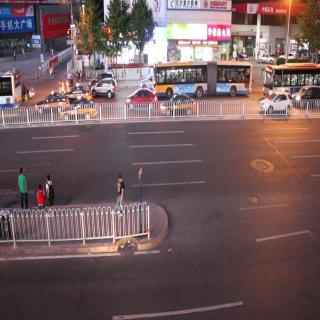BigCar: (146, 61, 256, 99), (262, 60, 320, 96)
Car: (29, 93, 69, 116), (161, 96, 198, 120), (257, 92, 297, 114), (60, 102, 96, 124), (126, 87, 157, 112), (63, 81, 95, 105), (90, 77, 118, 99)
